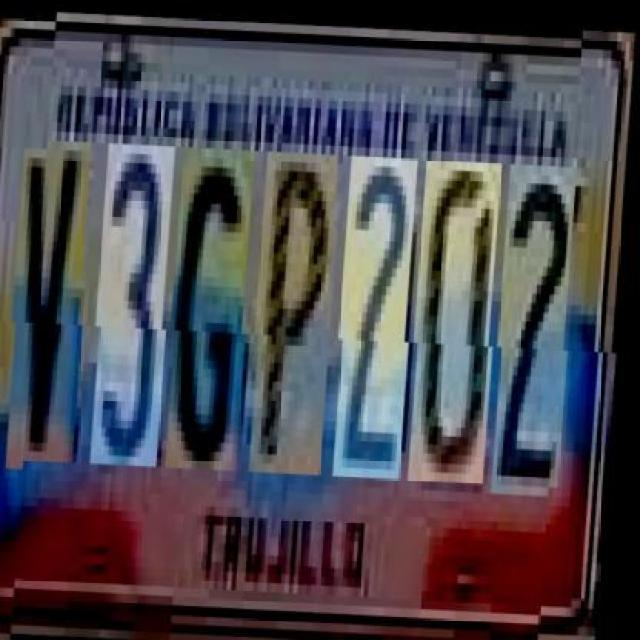0: (414, 155, 508, 478)
2: (499, 158, 583, 491), (340, 152, 425, 476)
3: (97, 142, 181, 466)
g: (172, 145, 260, 468)
p: (256, 148, 346, 472)
v: (13, 138, 98, 462)
